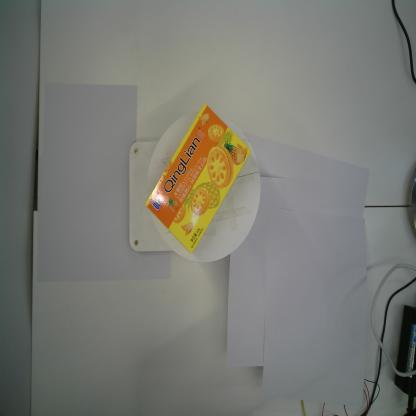Dessert: (142, 100, 252, 257)
